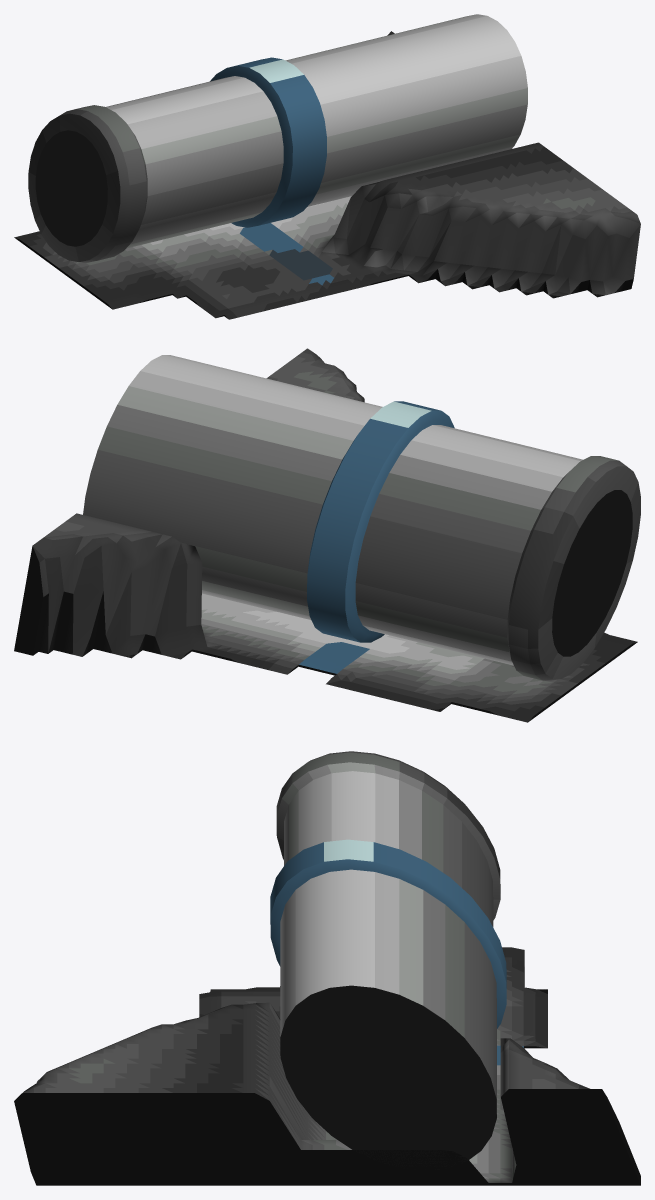
Rendered from cannon_barrel.glb.
3 views of the same model, one above another, from view 1: azimuth 30°, elevation 25°; view 2: azimuth 150°, elevation 25°; view 3: azimuth 270°, elevation 25° (orthographic). The views are drawn at different scales.
Parts seen in each view (by area): view 1: cannon_barrel; view 2: cannon_barrel; view 3: cannon_barrel.
Part boxes in pixels (x1=…): cannon_barrel: x1=14, y1=14, x2=640, y2=319; cannon_barrel: x1=14, y1=348, x2=640, y2=722; cannon_barrel: x1=14, y1=751, x2=640, y2=1185.
Bounding box in the file's own units: 24 × 9.9 × 26.96.
